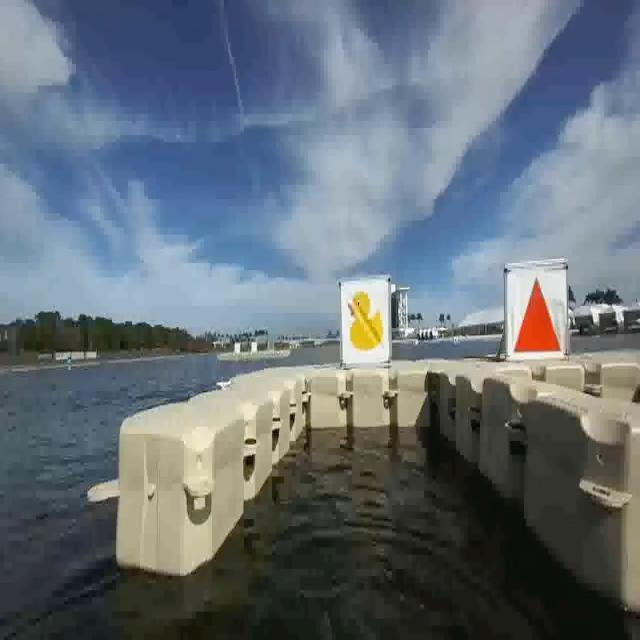red-dot: (508, 268, 566, 362)
yellow-duck: (346, 289, 384, 351)
